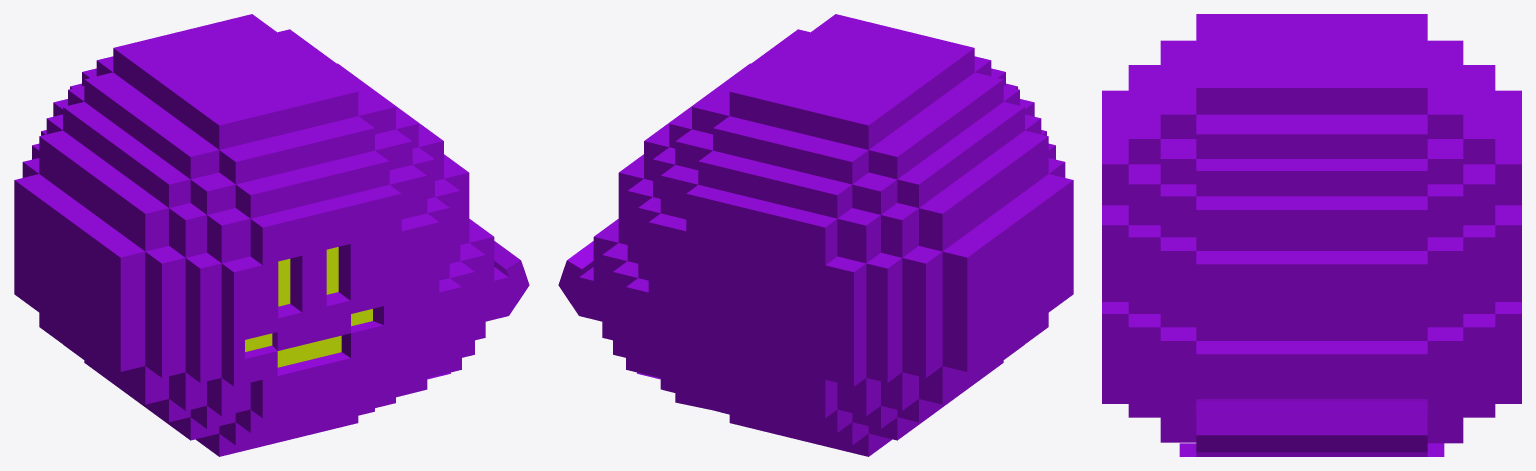
Rendered from P3_Purple_Ghost.fbx.
3 renders of one model, left to right at view 1: azimuth 30°, elevation 25°; view 2: azimuth 150°, elevation 25°; view 3: azimuth 270°, elevation 25°, orthographic. The views are drawn at different scales.
Visible parts, largest first — view 1: Purple Boo; view 2: Purple Boo; view 3: Purple Boo.
Boxes of the visible parts, x1,y1,x2,y2 form: Purple Boo: (14, 14, 529, 456); Purple Boo: (558, 14, 1073, 456); Purple Boo: (1102, 14, 1521, 456).
Bounding box in the file's own units: 178 × 138 × 145.
